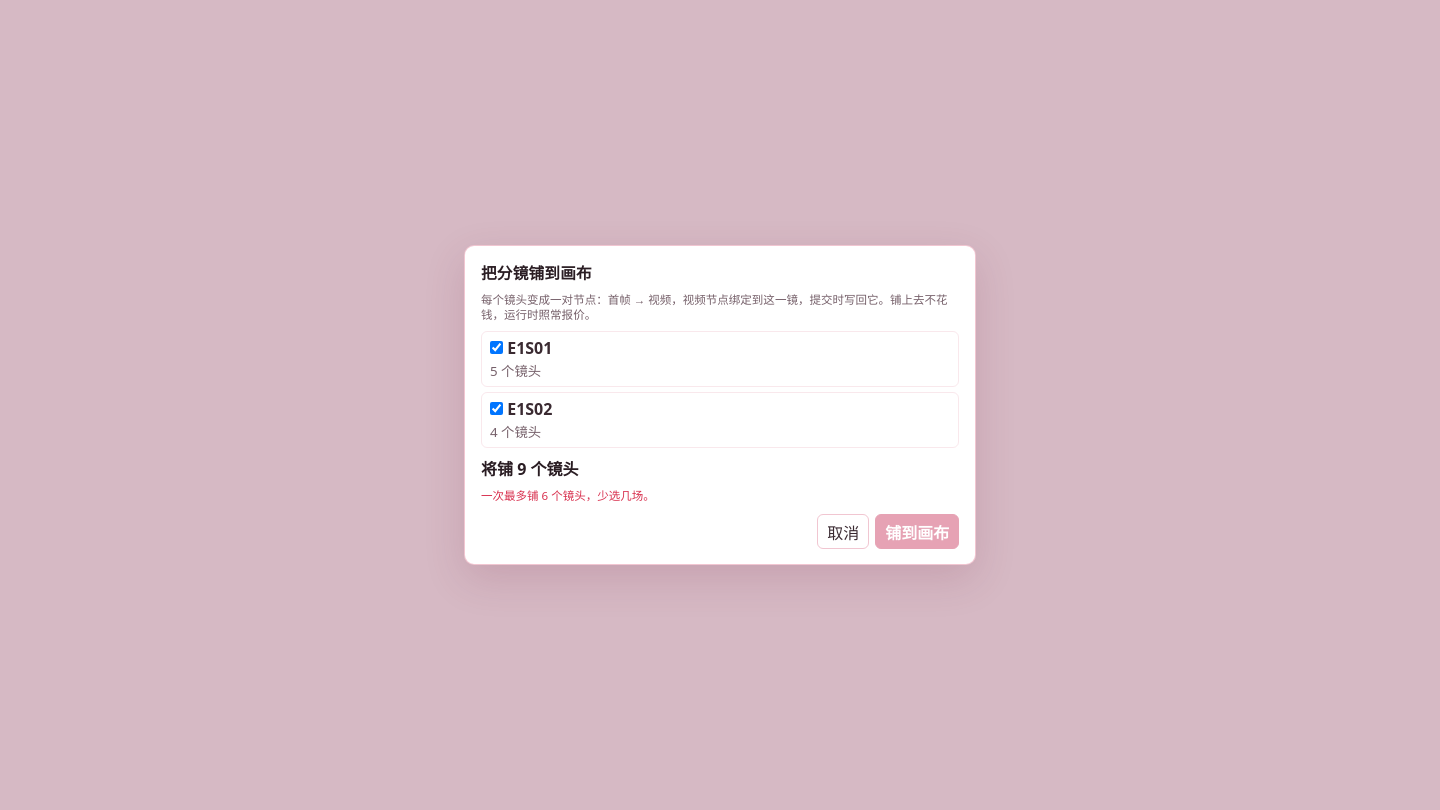
laying the storyboard out on the canvas › will not lay out more than the limit, or nothing
Expected: the text "E1S01" is shown, [507,337,552,359]
Expected: the button "铺到画布" is disabled, [875,514,959,549]
What coordinates should you click on to do the following:
click the checkbox labelled "E1S02"
I would click on:
 (496, 409)
Its box is [490,402,503,415].
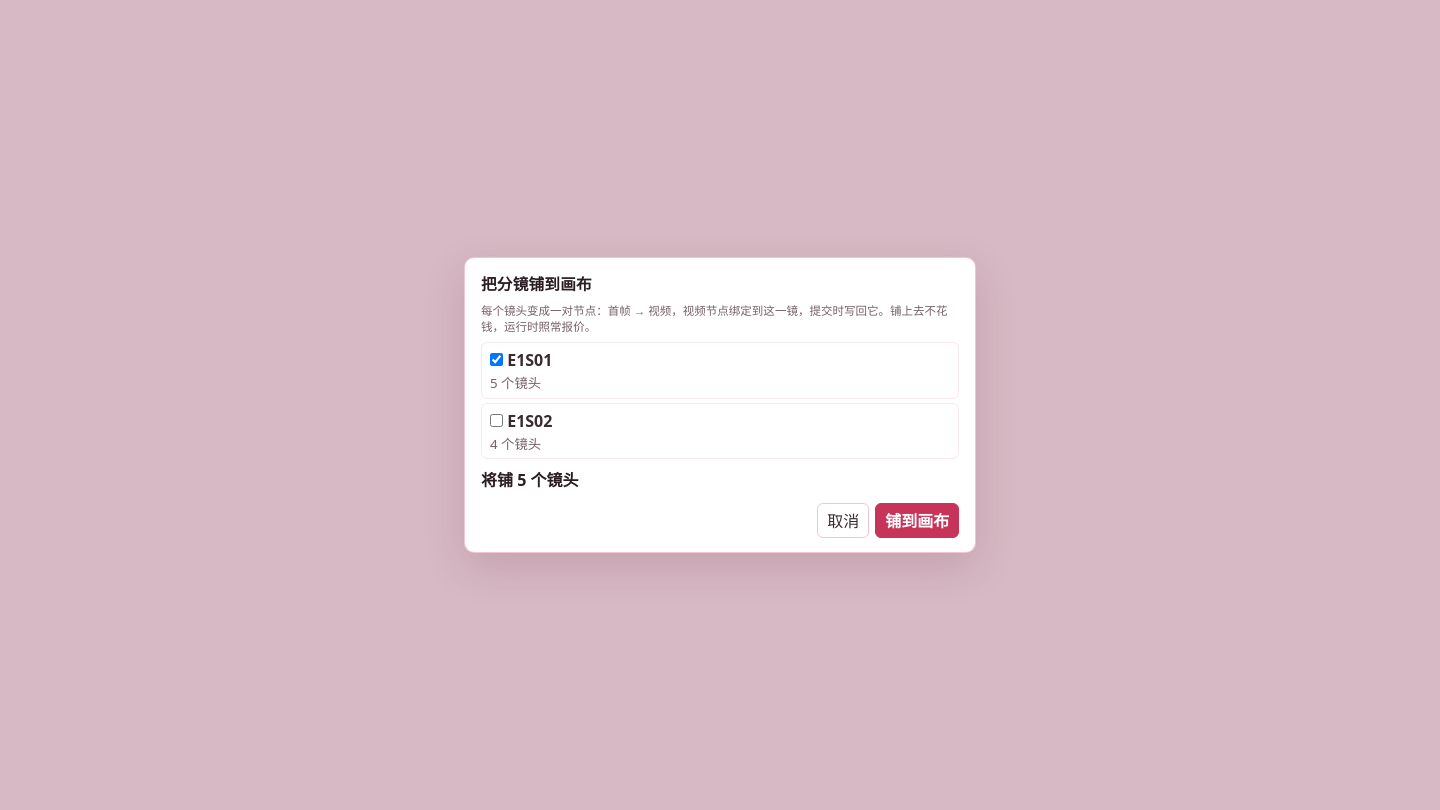
Now the button "铺到画布" is enabled, box [875,503,959,538]
What coordinates should you click on to do the following:
click the checkbox labelled "E1S01"
I would click on:
 (496, 360)
Its box is [490,353,503,366].
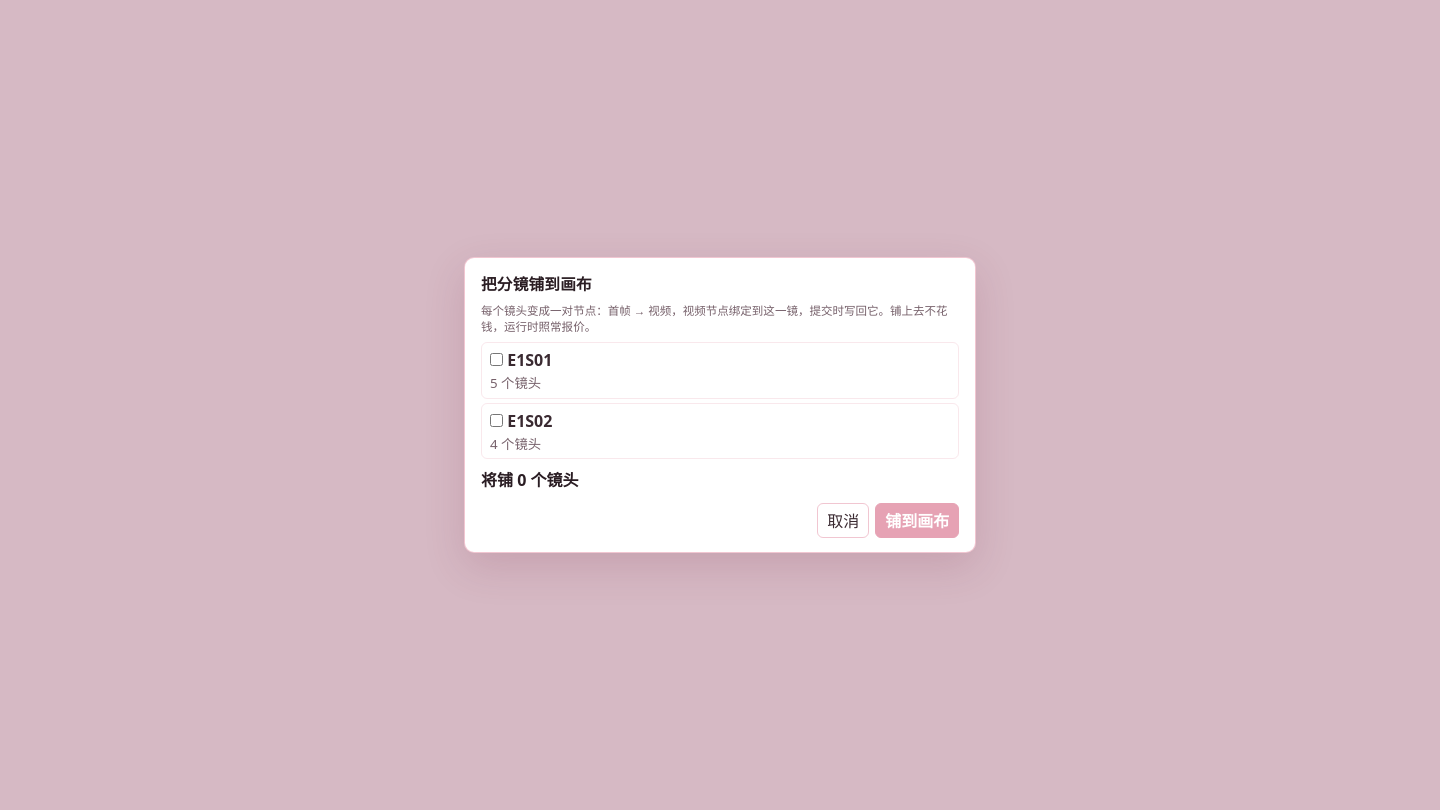
Now the button "铺到画布" is disabled, box [875,503,959,538]
